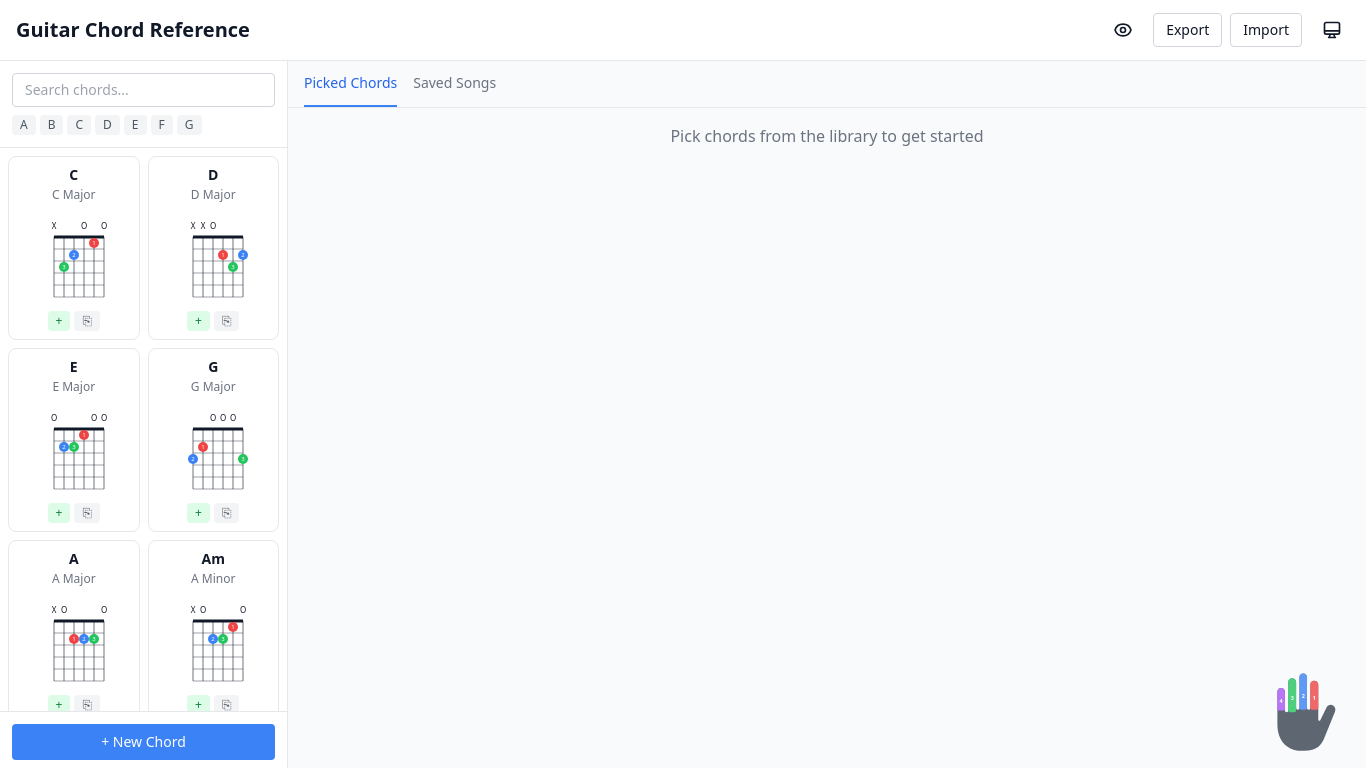
Test: App › picks a chord when pick button is clicked
Click the button named "pick chord".
click(59, 321)  # box [48,311,70,331]
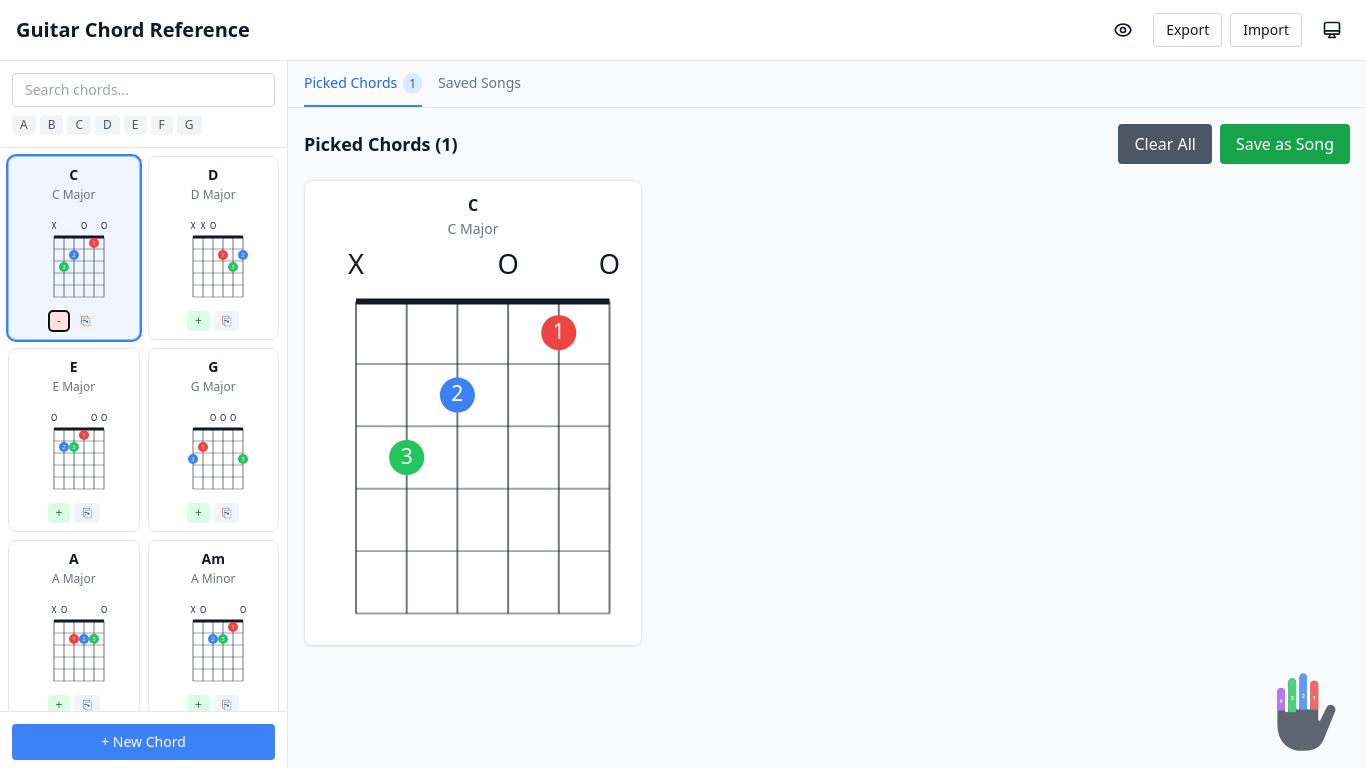
Check: the button with aria-label "picked chords tab" shows "1", box [304,61,422,107]
